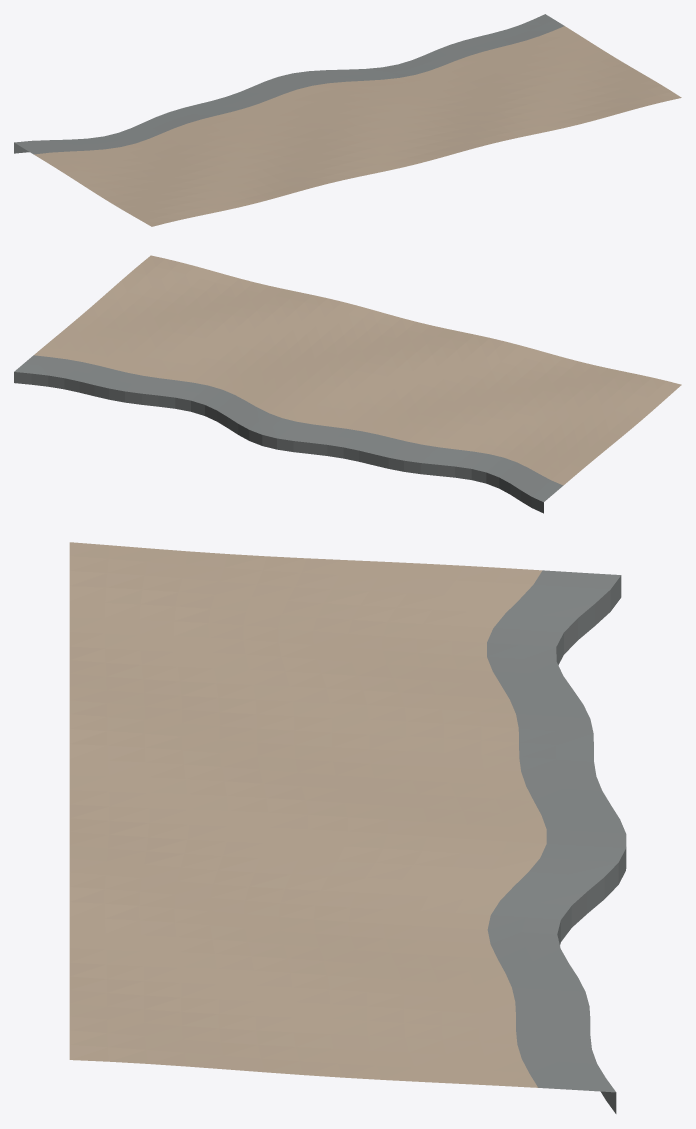
The model's file is shore-v1.glb.
3 renders of one model, top to bottom at view 1: azimuth 30°, elevation 25°; view 2: azimuth 150°, elevation 25°; view 3: azimuth 270°, elevation 25°, orthographic. The views are drawn at different scales.
Visible parts, largest first — view 1: shore-v1; view 2: shore-v1; view 3: shore-v1.
Part boxes in pixels (x1,y1,x2,y2): shore-v1: (14,14,681,226); shore-v1: (14,255,681,513); shore-v1: (69,542,626,1113).
Size of the model in its own units: 49.68 by 2.49 by 22.58.
